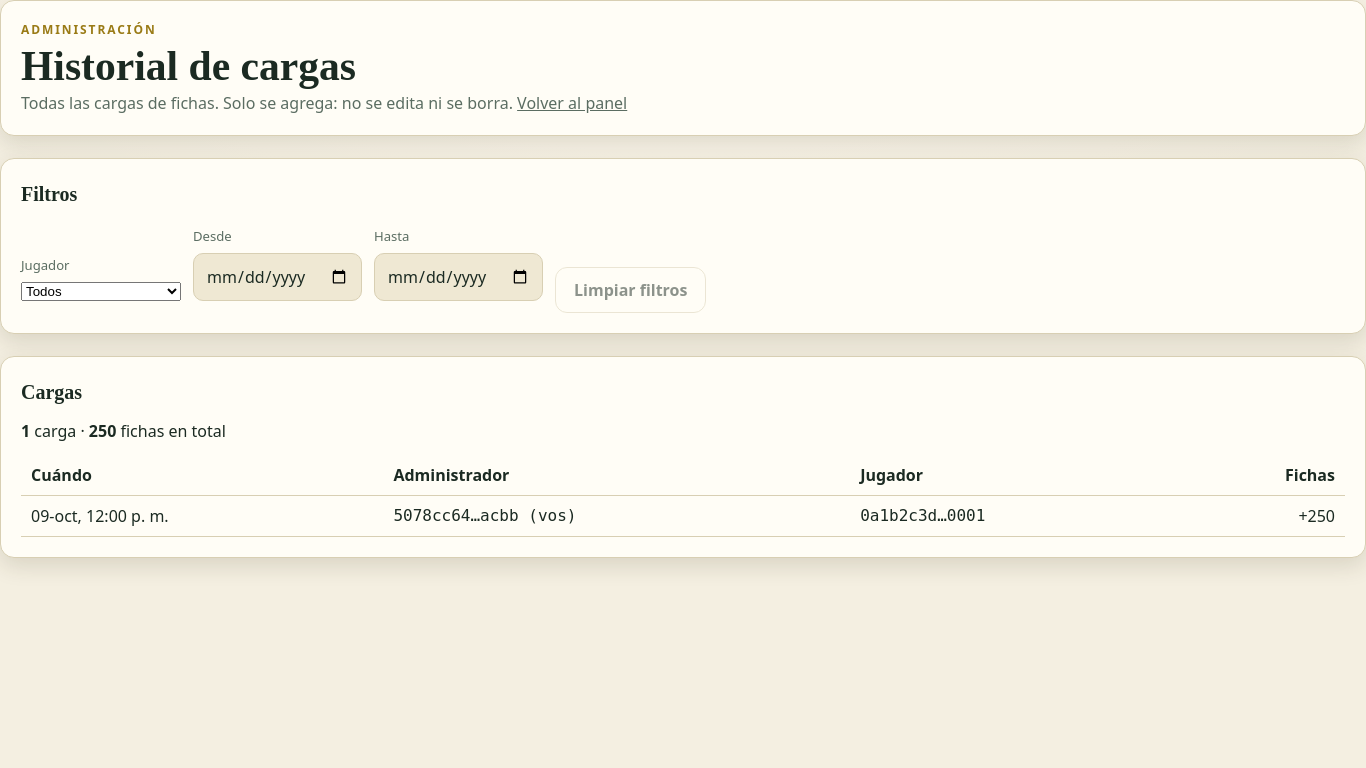
Test: AdminCredits › clears the filters
This screenshot has width=1366, height=768.
Check: the table named "Cargas de fichas" is shown, box left=21, top=454, right=1345, bottom=536
Select "0a1b2c3d…0001" in the dropdown labelled "Jugador" at (101, 291), box left=21, top=282, right=181, bottom=300
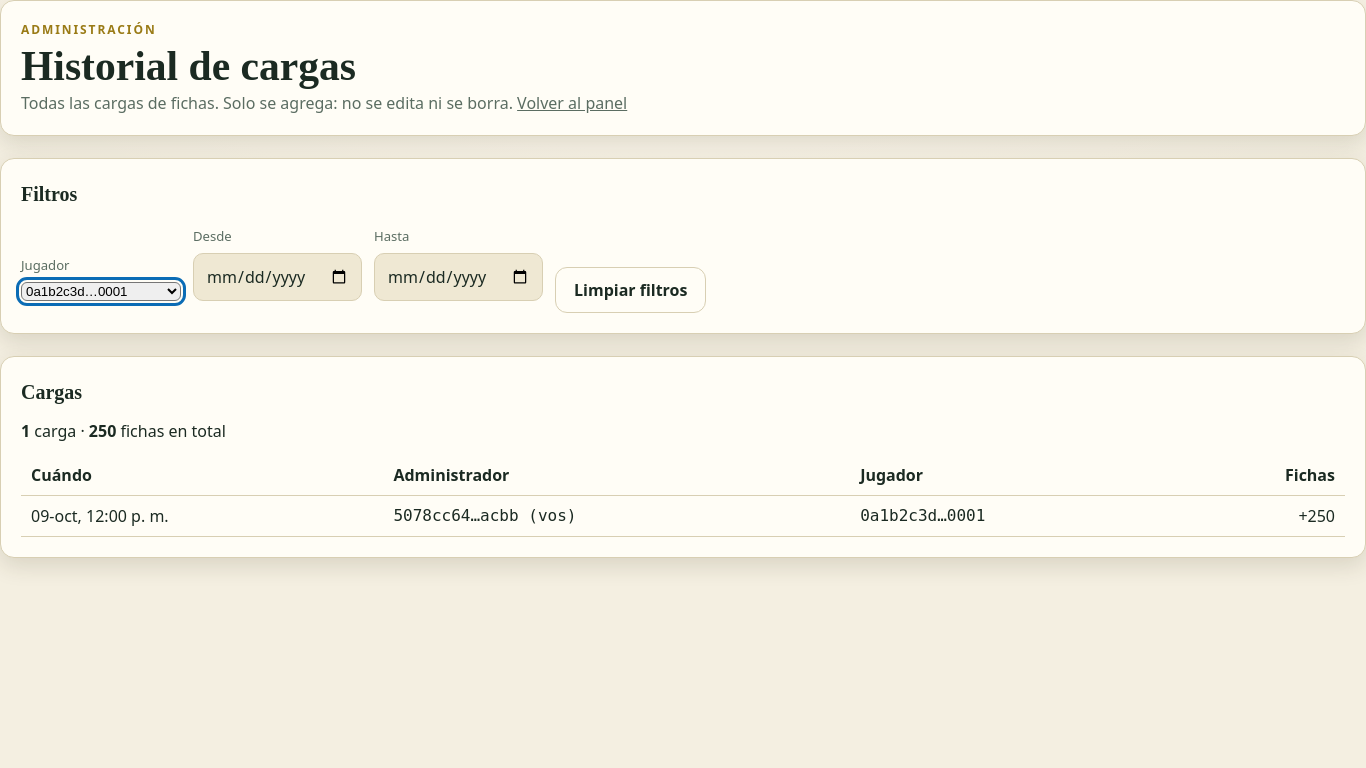
Click the button "Limpiar filtros" at (631, 290), box left=555, top=266, right=706, bottom=312
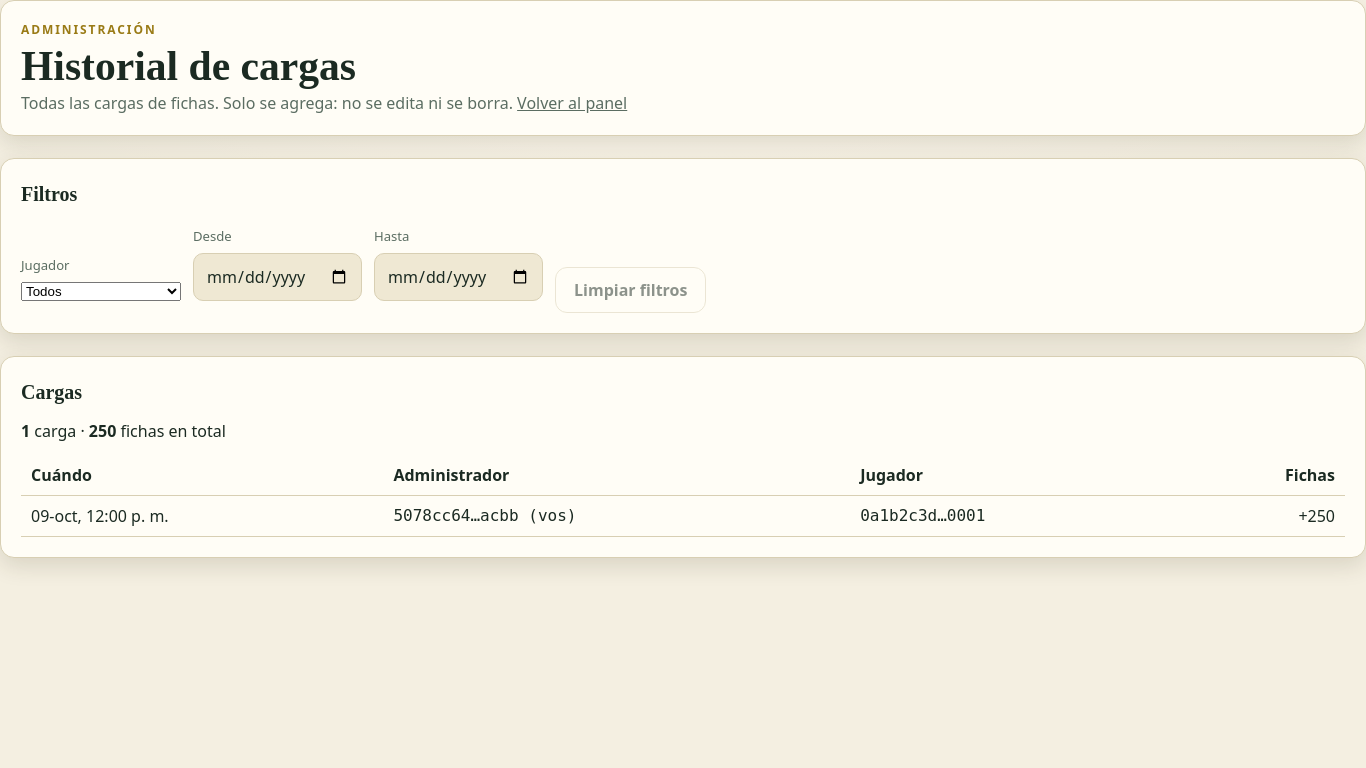
Check: the button "Limpiar filtros" is disabled, box left=555, top=266, right=706, bottom=312
